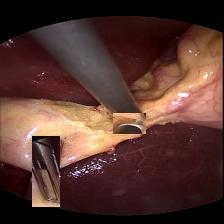Grasper: (32, 135, 60, 206)
Hook: (113, 112, 146, 133)
